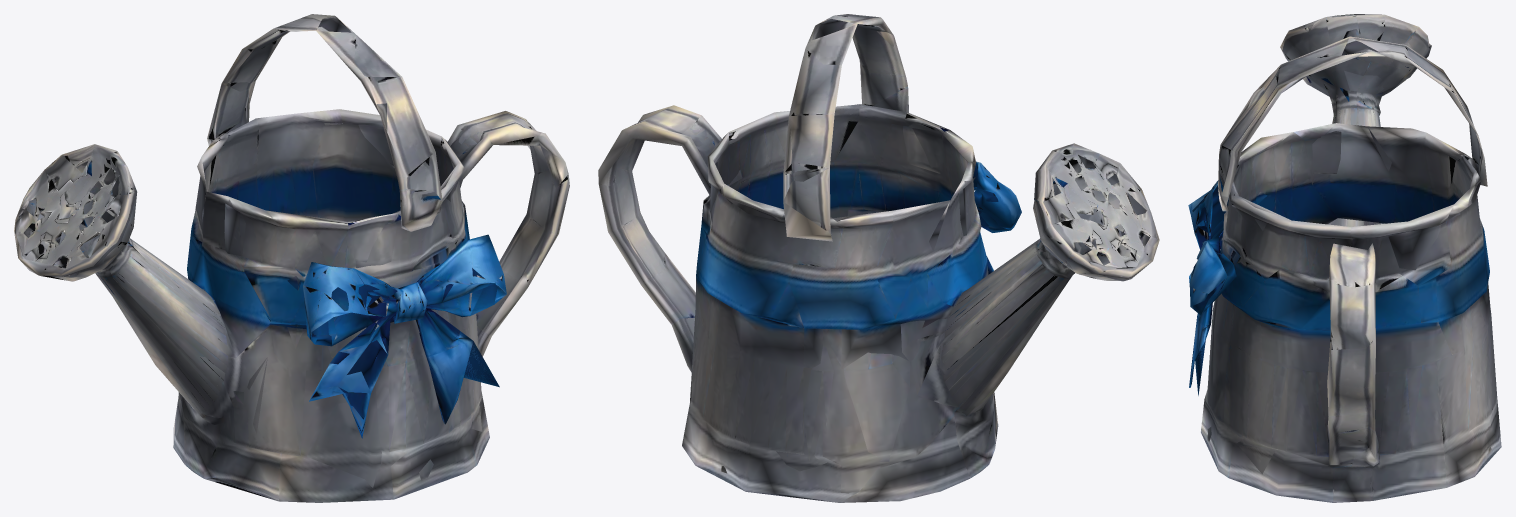
The model's file is can.glb.
3 renders of one model, left to right at view 1: azimuth 30°, elevation 25°; view 2: azimuth 150°, elevation 25°; view 3: azimuth 270°, elevation 25°, orthographic. The views are drawn at different scales.
Visible parts, largest first — view 1: geometry_0; view 2: geometry_0; view 3: geometry_0.
Part boxes in pixels (x1=…): geometry_0: x1=14, y1=14, x2=569, y2=502; geometry_0: x1=598, y1=14, x2=1159, y2=502; geometry_0: x1=1188, y1=14, x2=1501, y2=502.
Size of the model in its own units: 0.9468 by 0.7046 by 0.5054.
1 material, 1 textured.
